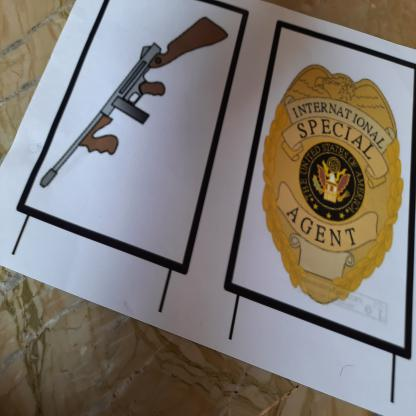Bootlegger: (36, 13, 234, 225)
G-man: (258, 59, 407, 312)
